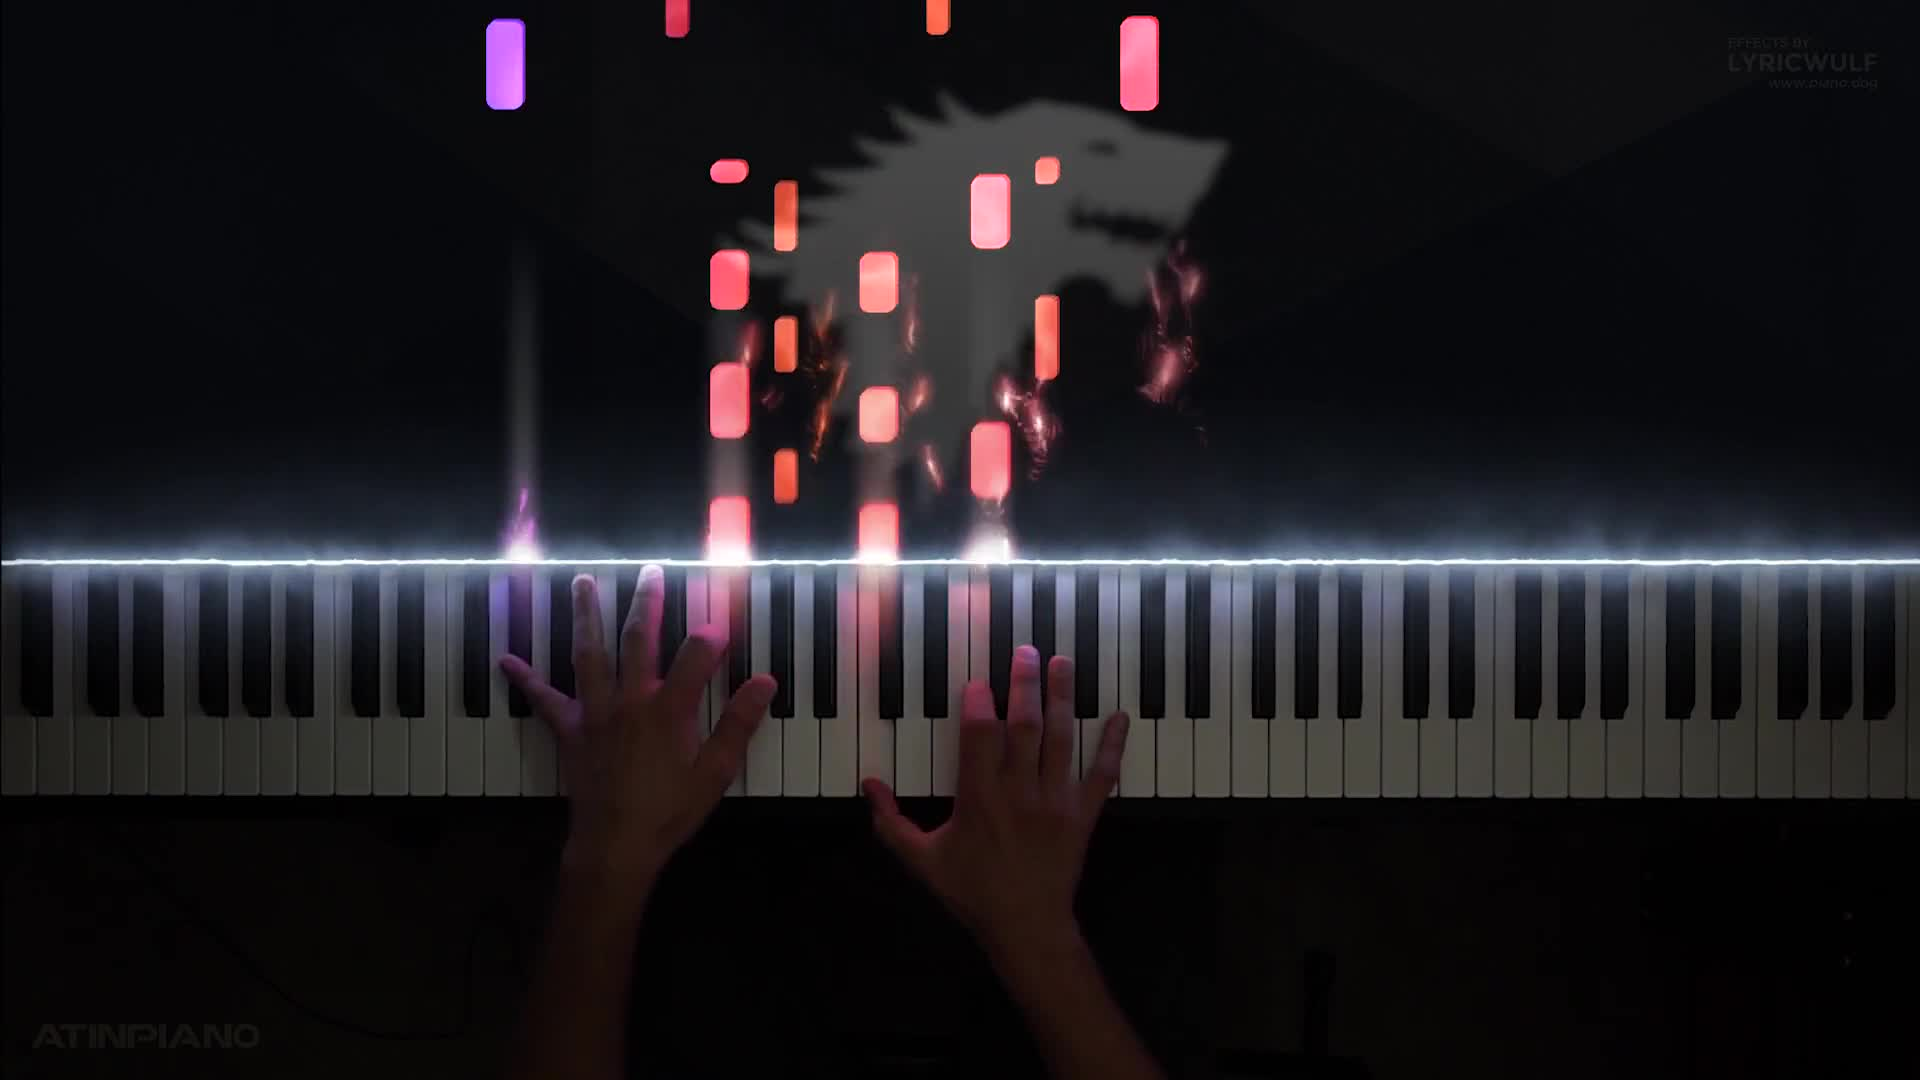left: (498, 562, 781, 825)
right: (858, 642, 1135, 918)
